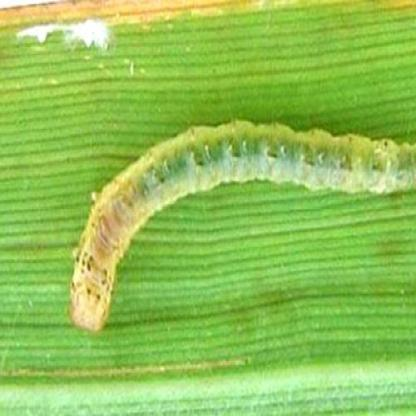leaf-folder: (64, 112, 416, 349)
